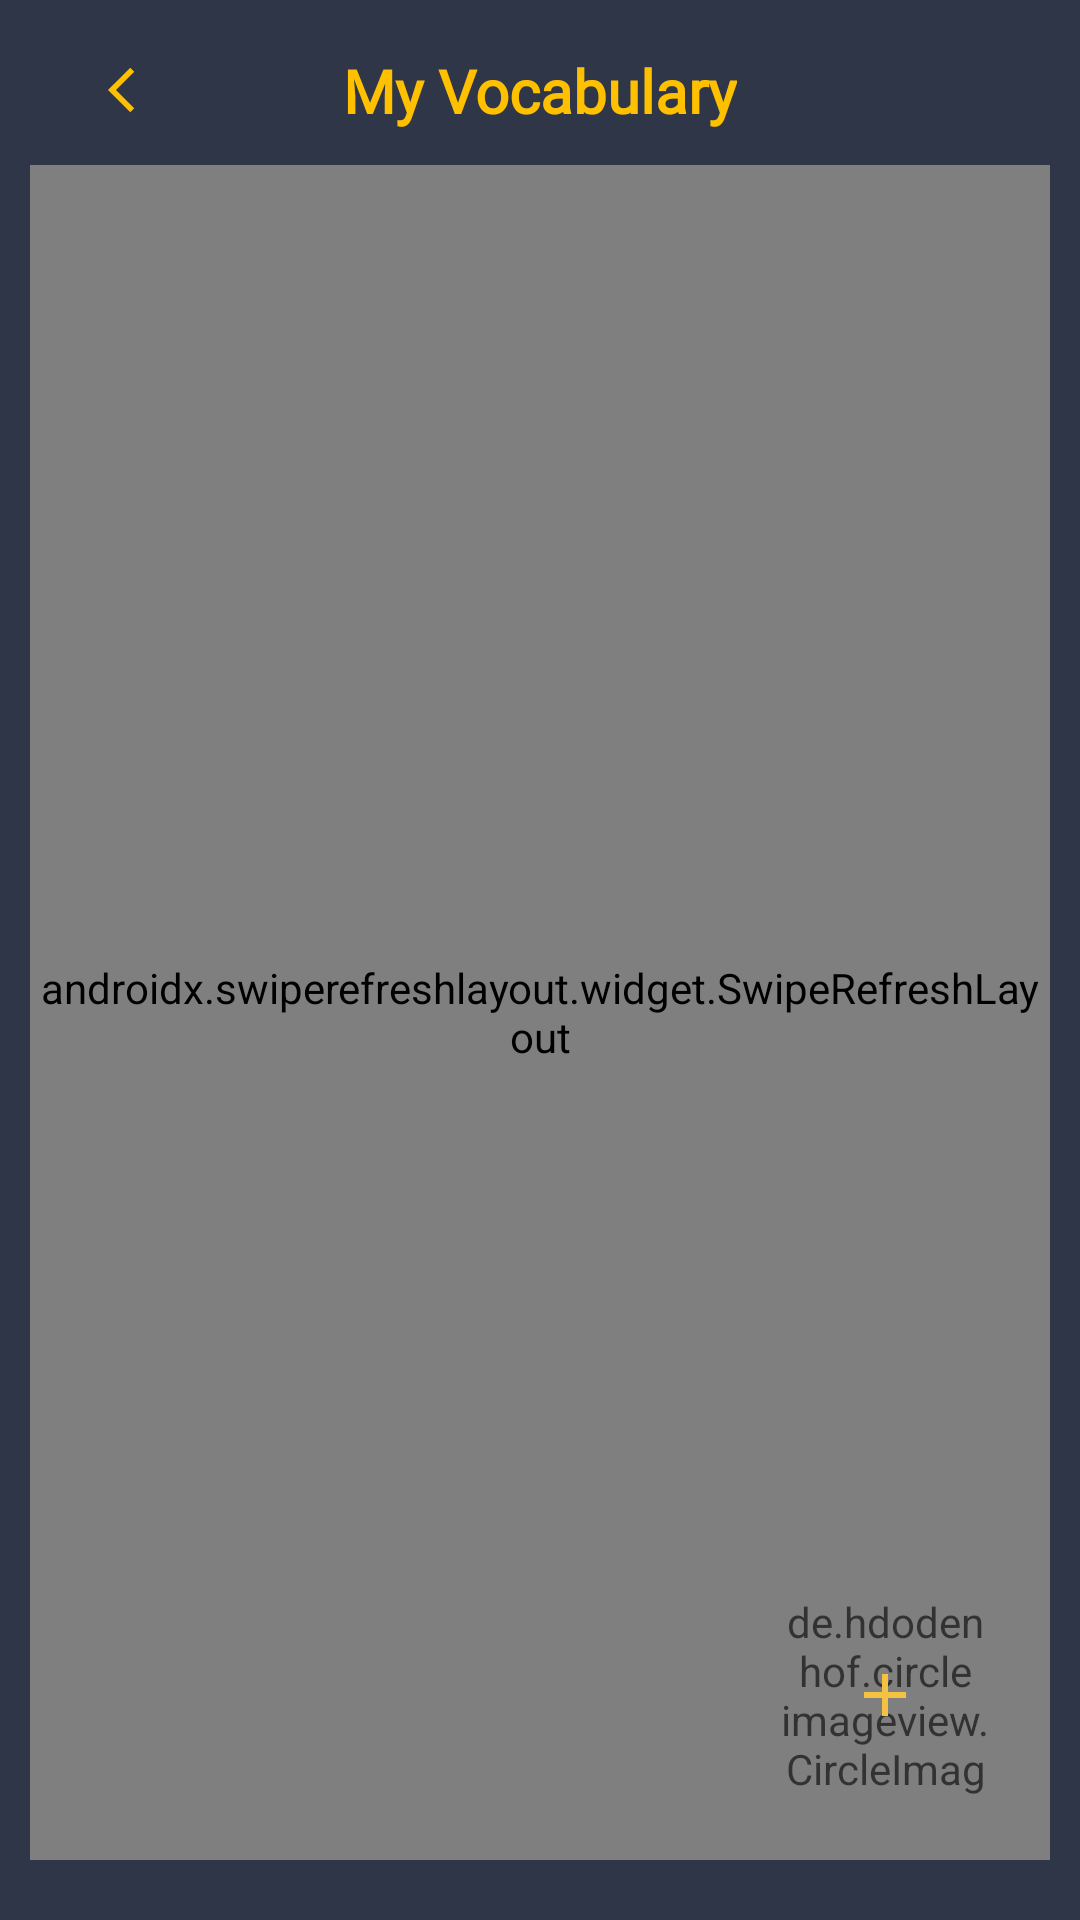

Screen size 1080*1920. Icon name, then its center in pixels as (x,y):
add: (885,1695)
backoff: (121,90)
